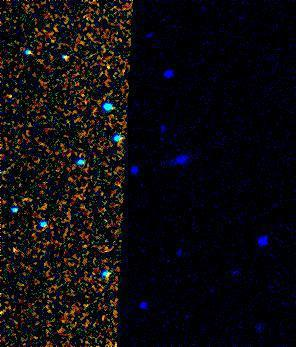star: (91, 53, 121, 83)
